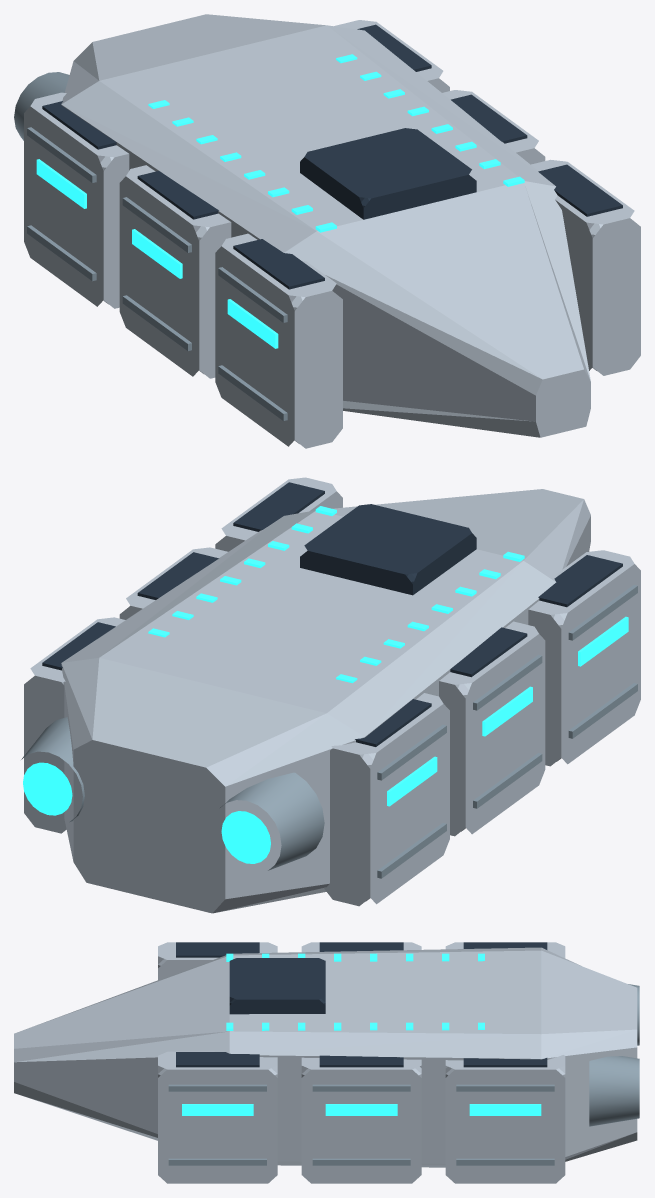
Rendered from dawn_ark.glb.
3 renders of one model, top to bottom at view 1: azimuth 30°, elevation 25°; view 2: azimuth 150°, elevation 25°; view 3: azimuth 270°, elevation 25°, orthographic. The views are drawn at different scales.
Parts seen in each view (by area): view 1: Ark; view 2: Ark; view 3: Ark.
Part boxes in pixels (x1,y1,x2,y2): Ark: [14, 14, 640, 448]; Ark: [21, 477, 640, 913]; Ark: [14, 942, 639, 1183].
Bounding box in the file's own units: 2.57 × 1.32 × 5.23.
